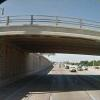Bridge: (7, 6, 97, 60)
